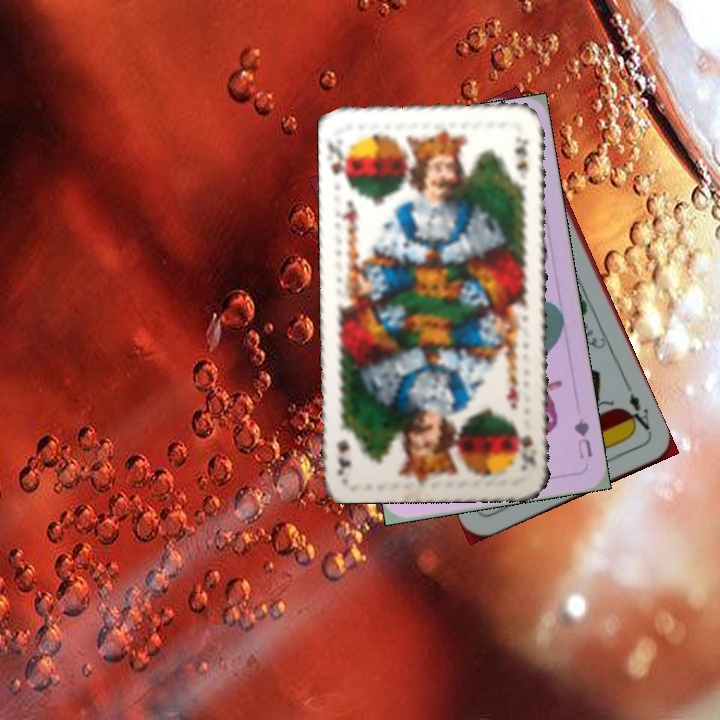EA: (621, 389, 654, 437)
GU: (570, 413, 595, 461)
SK: (325, 139, 352, 187), (514, 423, 538, 474)
